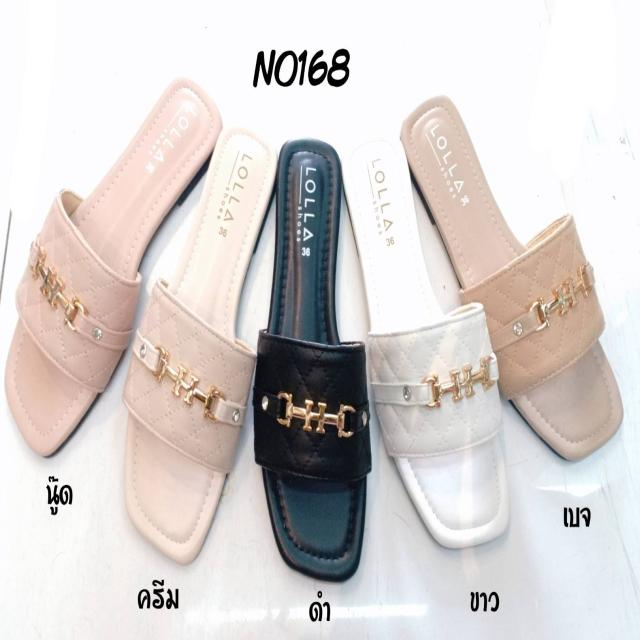bej: (398, 89, 636, 477)
black: (246, 114, 370, 598)
cream: (120, 100, 270, 565)
nood: (0, 32, 218, 452)
white: (341, 122, 505, 564)
